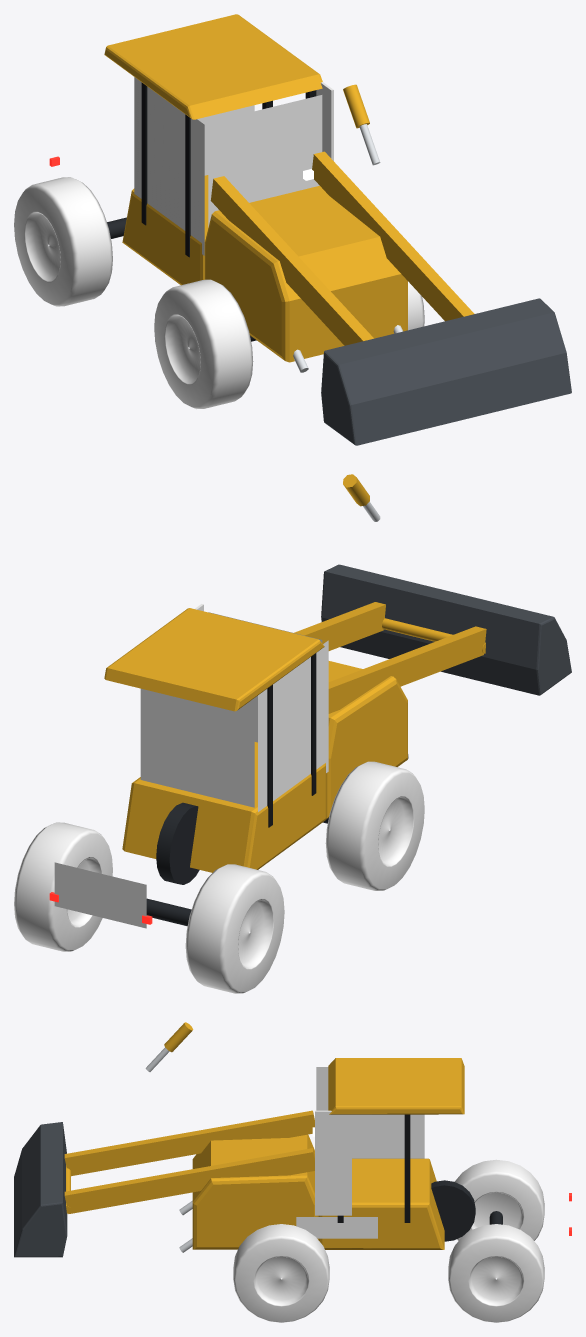
Rendered from equipment--wheelLoader.glb.
3 views of the same model, one above another, from view 1: azimuth 30°, elevation 25°; view 2: azimuth 150°, elevation 25°; view 3: azimuth 270°, elevation 25° (orthographic). The views are drawn at different scales.
Parts seen in each view (by area): view 1: wheelLoader:shell, bucket, arms, axleFront, axleRear, bellcrank, door; view 2: wheelLoader:shell, axleRear, bucket, axleFront, arms, bellcrank; view 3: wheelLoader:shell, axleRear, arms, axleFront, bucket, door, bellcrank.
Boxes of the visible parts, x1=… form: wheelLoader:shell: x1=104, y1=14, x2=407, y2=362; bucket: x1=321, y1=298, x2=571, y2=445; arms: x1=210, y1=151, x2=474, y2=372; axleFront: x1=154, y1=279, x2=424, y2=409; axleRear: x1=14, y1=177, x2=112, y2=306; bellcrank: x1=343, y1=84, x2=380, y2=165; door: x1=316, y1=82, x2=333, y2=160; wheelLoader:shell: x1=54, y1=608, x2=407, y2=928; axleRear: x1=14, y1=822, x2=284, y2=993; bucket: x1=321, y1=564, x2=571, y2=695; axleFront: x1=325, y1=761, x2=424, y2=890; arms: x1=294, y1=602, x2=486, y2=758; bellcrank: x1=343, y1=474, x2=380, y2=521; wheelLoader:shell: x1=192, y1=1058, x2=502, y2=1249; axleRear: x1=448, y1=1159, x2=544, y2=1322; arms: x1=64, y1=1110, x2=314, y2=1252; axleFront: x1=233, y1=1224, x2=329, y2=1322; bucket: x1=14, y1=1122, x2=67, y2=1257; door: x1=315, y1=1110, x2=351, y2=1215; bellcrank: x1=145, y1=1022, x2=193, y2=1071.
Bounding box in the file's own units: 2.6 × 3.9 × 7.53.
